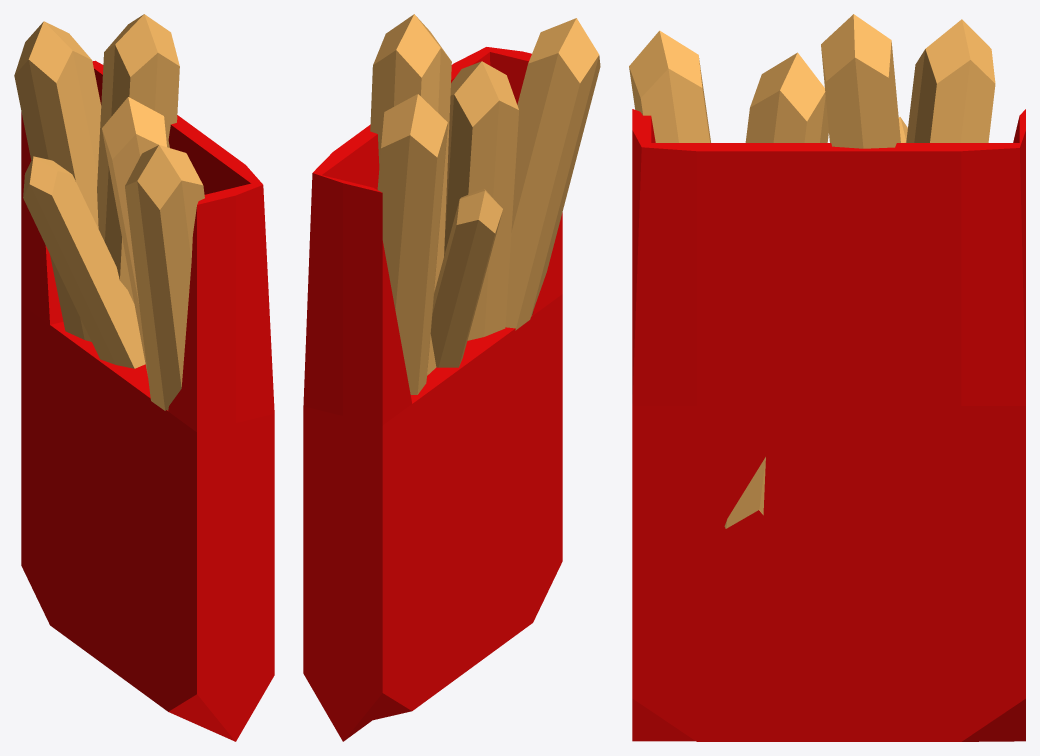
Rendered from frite.fbx.
The picture shows the model from 3 angles, left to right: view 1: azimuth 30°, elevation 25°; view 2: azimuth 150°, elevation 25°; view 3: azimuth 270°, elevation 25°; orthographic projection. The views are drawn at different scales.
Visible parts, largest first — view 1: Cube; view 2: Cube; view 3: Cube.
Part boxes in pixels (x1,y1,x2,y2): Cube: (14, 14, 274, 741); Cube: (303, 14, 600, 741); Cube: (629, 14, 1025, 741).
Bounding box in the file's own units: 90.46 × 410 × 202.
